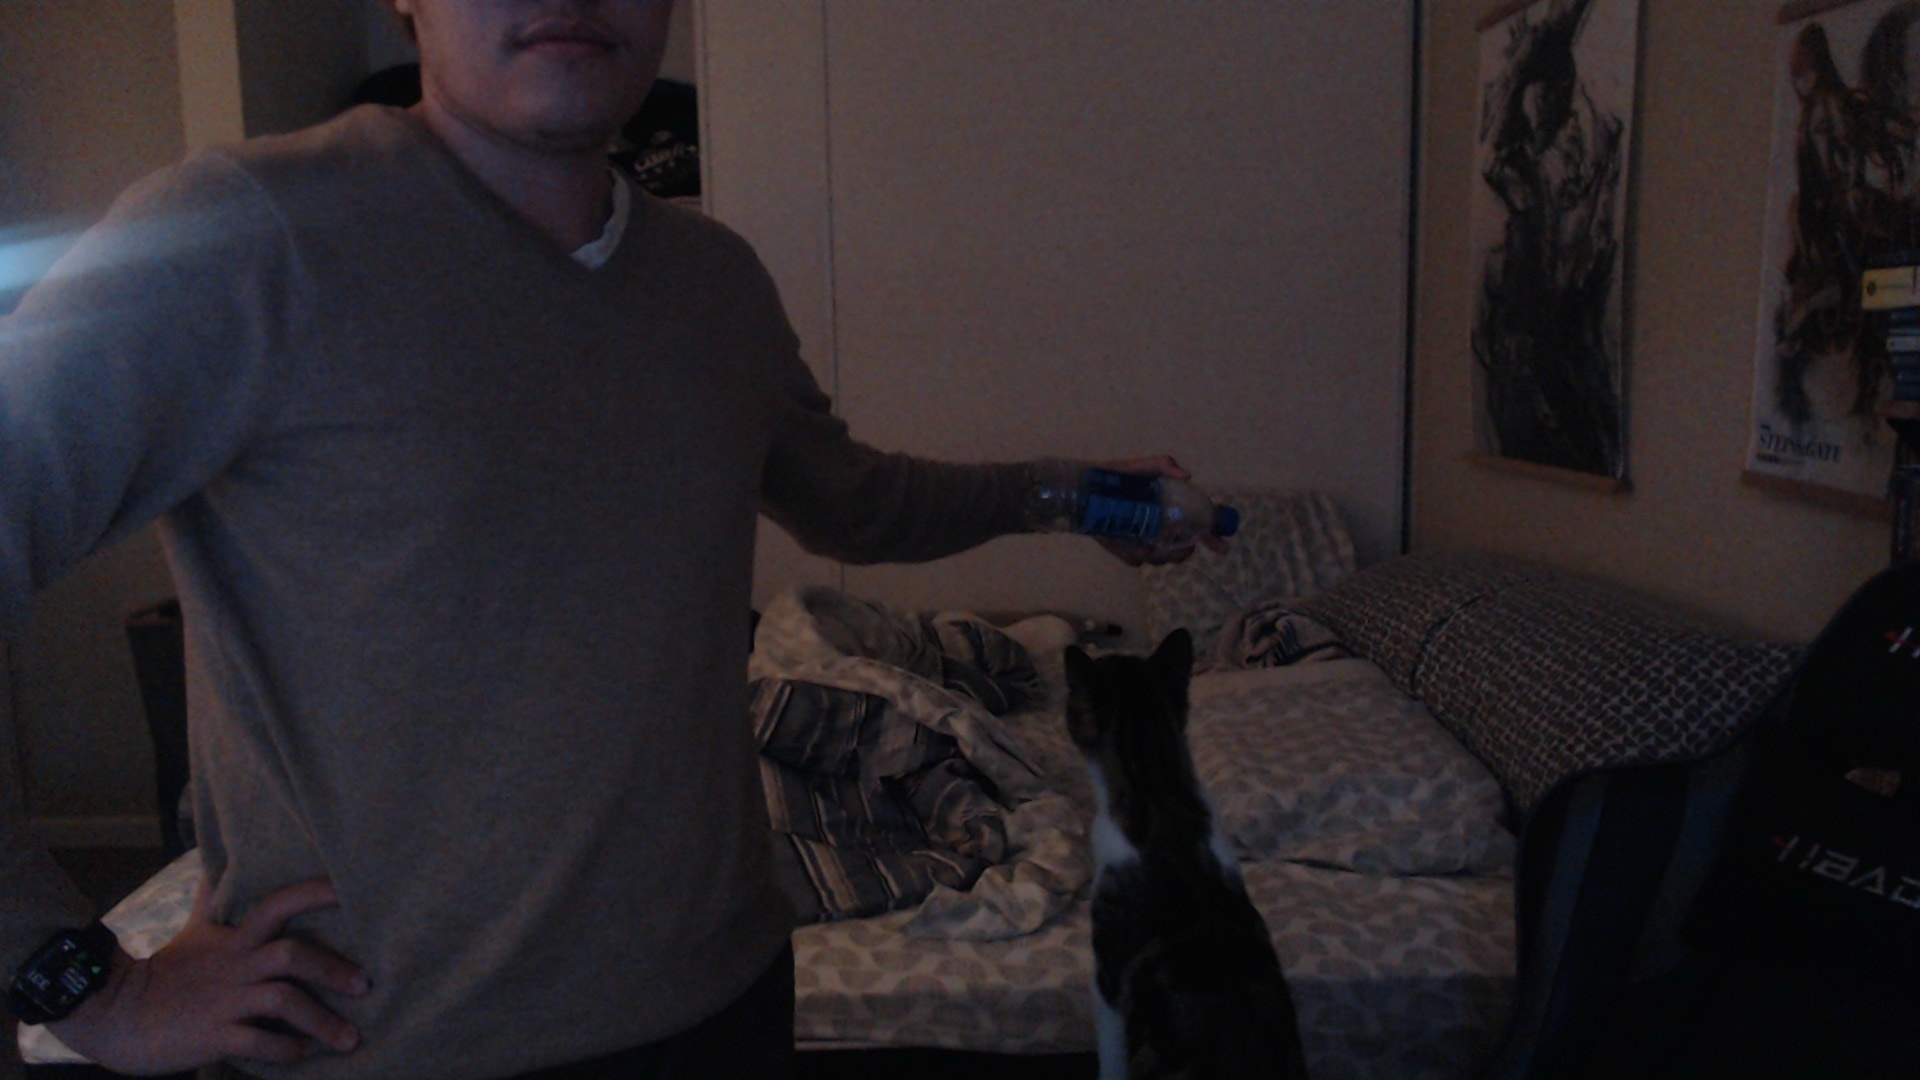bottle: (1021, 451, 1242, 556)
